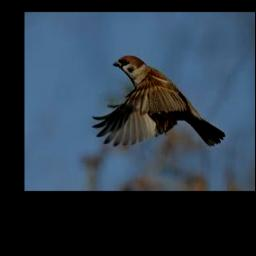Sparrow: (92, 55, 224, 148)
